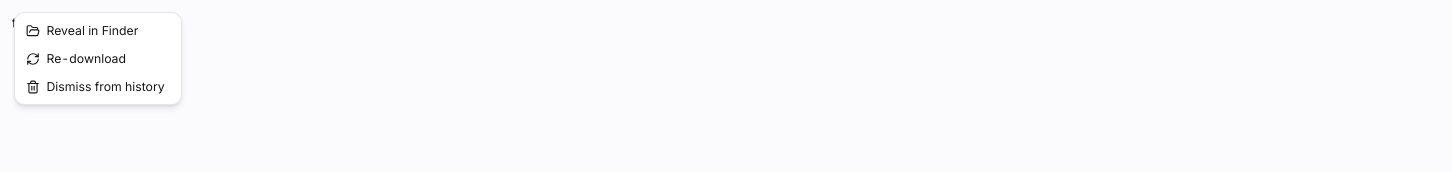
it: LibraryTileMenu toasts › shows a success toast after starting a re-download
This screenshot has width=1452, height=172.
Click the menu item "Re-download": (76, 58) x1=26 y1=51 x2=126 y2=66
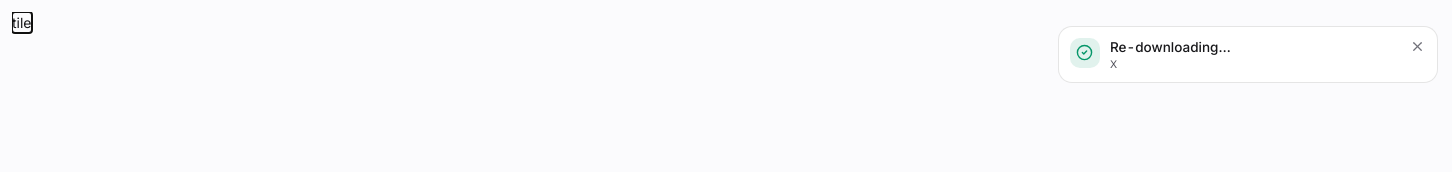
Expected: the text "Re-downloading…" is shown, x1=1110 y1=38 x2=1231 y2=54
